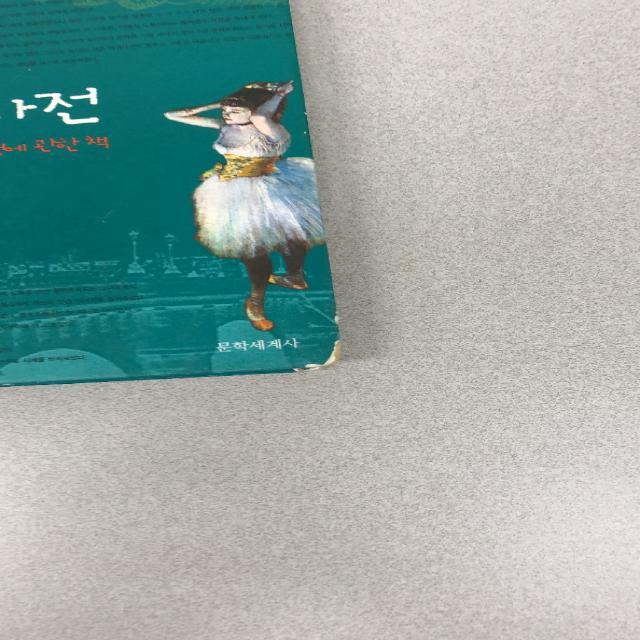Ripped: (286, 302, 346, 376)
